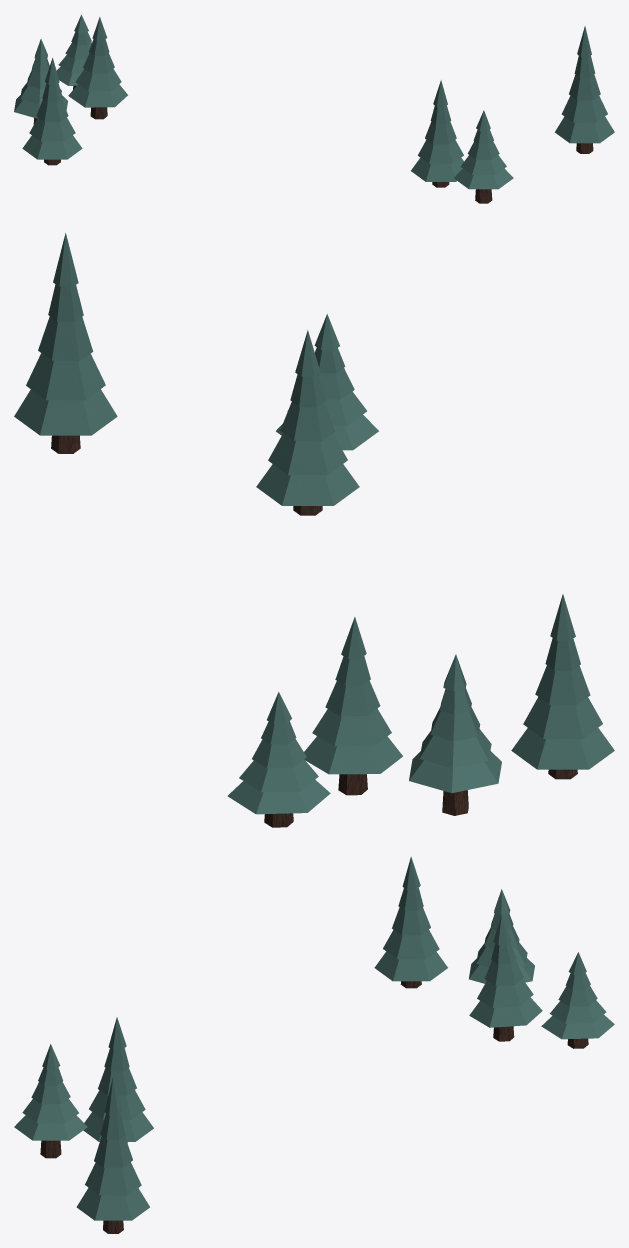
The model's file is 3P_Trees.glb.
3 views of the same model, one above another, from view 1: azimuth 30°, elevation 25°; view 2: azimuth 150°, elevation 25°; view 3: azimuth 270°, elevation 25° (orthographic). The views are drawn at different scales.
Parts seen in each view (by area): view 1: Tree.1; view 2: Tree.1; view 3: Tree.1.
Part boxes in pixels (x1,y1,x2,y2): Tree.1: (14, 14, 614, 203); Tree.1: (14, 233, 614, 827); Tree.1: (14, 856, 614, 1233).
Size of the model in its own units: 11.45 by 3.07 by 10.67.
1 material, 1 textured.
